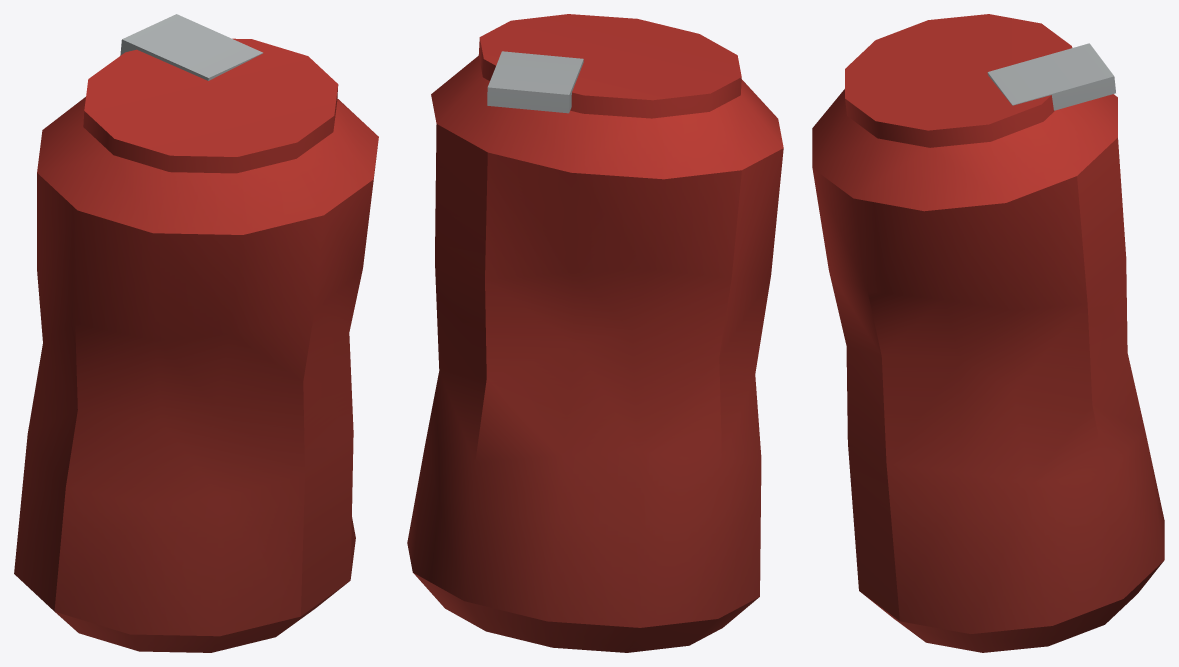
File: 29_canette.fbx
3 renders of one model, left to right at view 1: azimuth 30°, elevation 25°; view 2: azimuth 150°, elevation 25°; view 3: azimuth 270°, elevation 25°, orthographic. The views are drawn at different scales.
Parts seen in each view (by area): view 1: Canette; view 2: Canette; view 3: Canette.
Boxes of the visible parts, left/top/right/bottom form: Canette: left=14, top=14, right=378, bottom=652; Canette: left=407, top=14, right=783, bottom=652; Canette: left=812, top=14, right=1164, bottom=652.
Size of the model in its own units: 0.098 by 0.168 by 0.098.
1 material, 1 textured.
